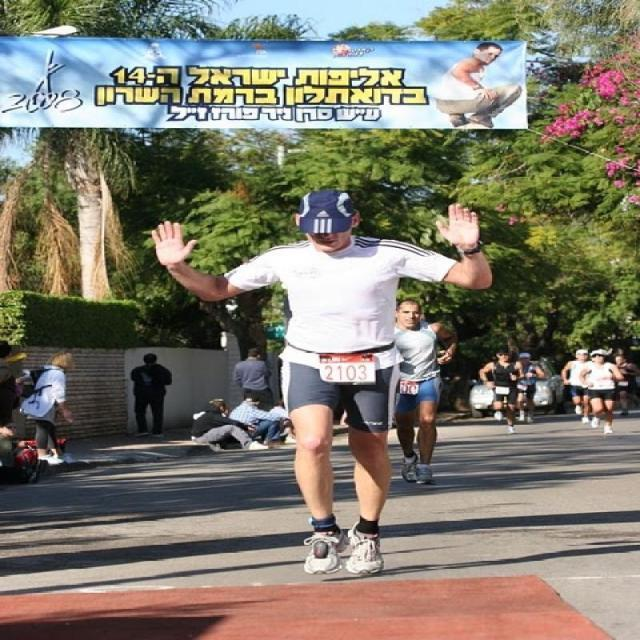dorsal: (312, 352, 383, 388)
